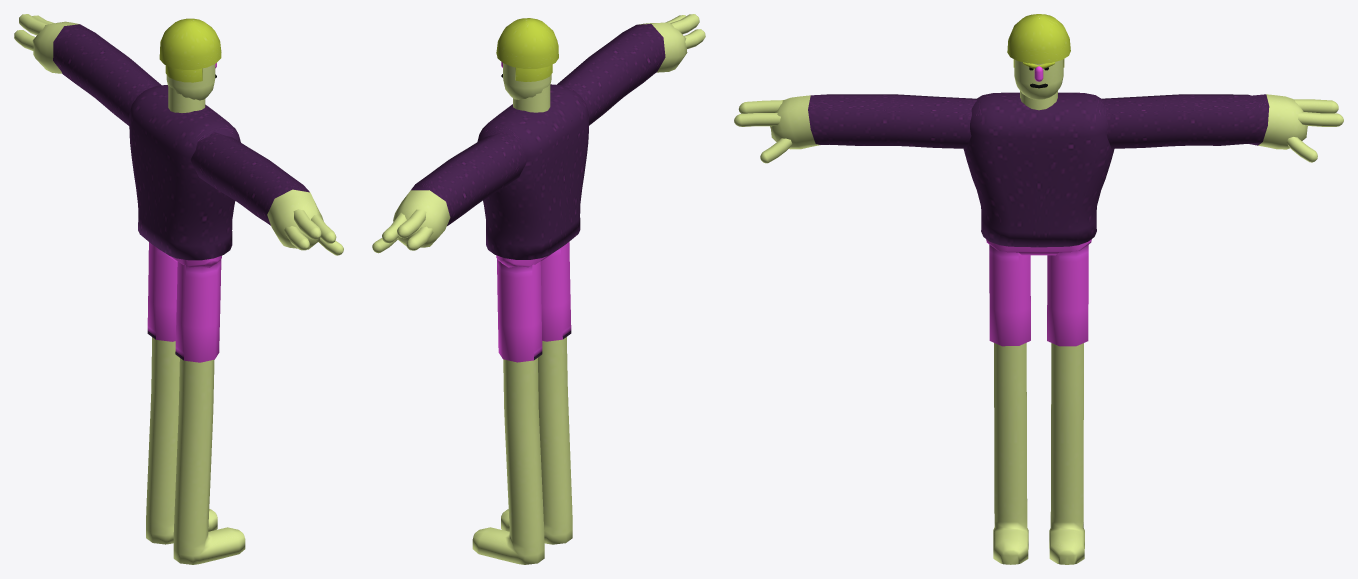
Rendered from avatars_tposing_man_ctmziz406v.glb.
3 views of the same model, side by side, from view 1: azimuth 30°, elevation 25°; view 2: azimuth 150°, elevation 25°; view 3: azimuth 270°, elevation 25° (orthographic).
Parts seen in each view (by area): view 1: mesh_char_72; view 2: mesh_char_72; view 3: mesh_char_72.
Boxes of the visible parts, left/top/right/bottom form: mesh_char_72: left=14, top=14, right=343, bottom=564; mesh_char_72: left=372, top=14, right=705, bottom=564; mesh_char_72: left=734, top=14, right=1343, bottom=564.
Size of the model in its own units: 0.8107 by 5.34 by 5.58.
1 material, 1 textured.
